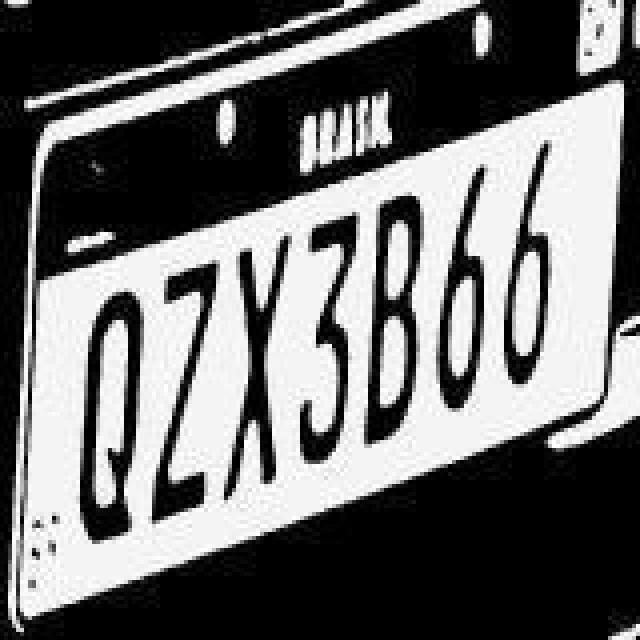3: (294, 208, 362, 464)
6: (438, 162, 490, 422), (502, 140, 554, 388)
B: (362, 184, 422, 456)
Q: (78, 288, 146, 544)
X: (222, 232, 290, 504)
Z: (148, 258, 220, 526)
